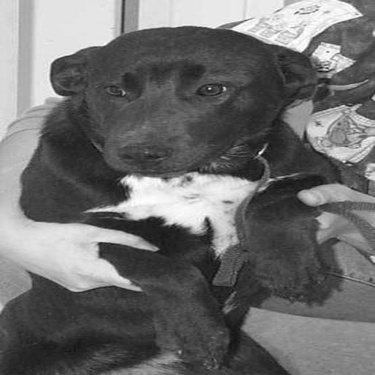dog: (4, 20, 340, 371)
